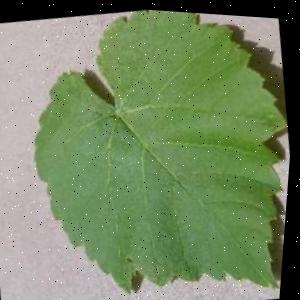Folha: (4, 1, 300, 300)
